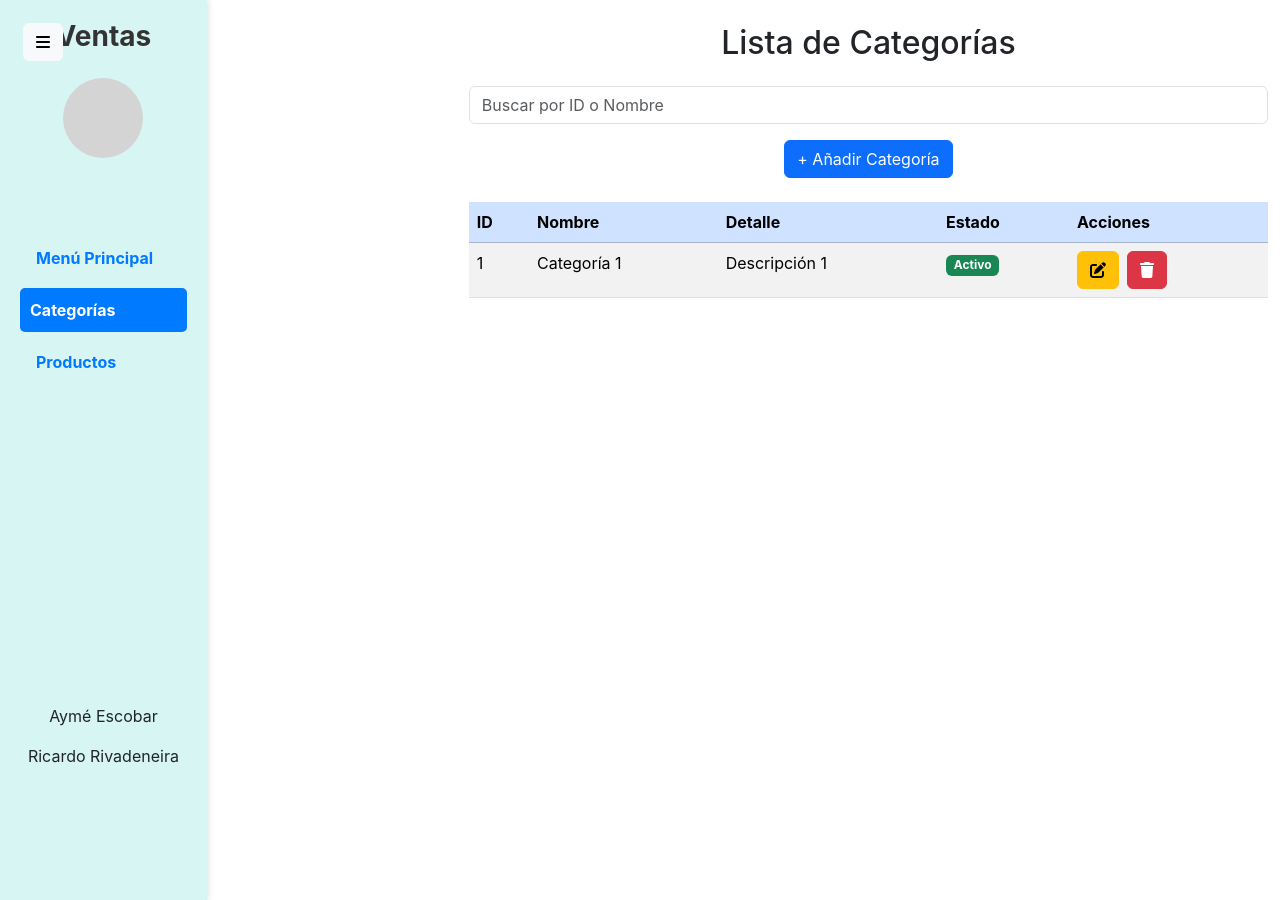
Test case: desactiva una categoría existente
Note: Seleccionar y hacer clic en el botón "Desactivar"
Click the button named "Desactivar Categoría" at {"x": 1147, "y": 270}, box [1127,251,1167,289]
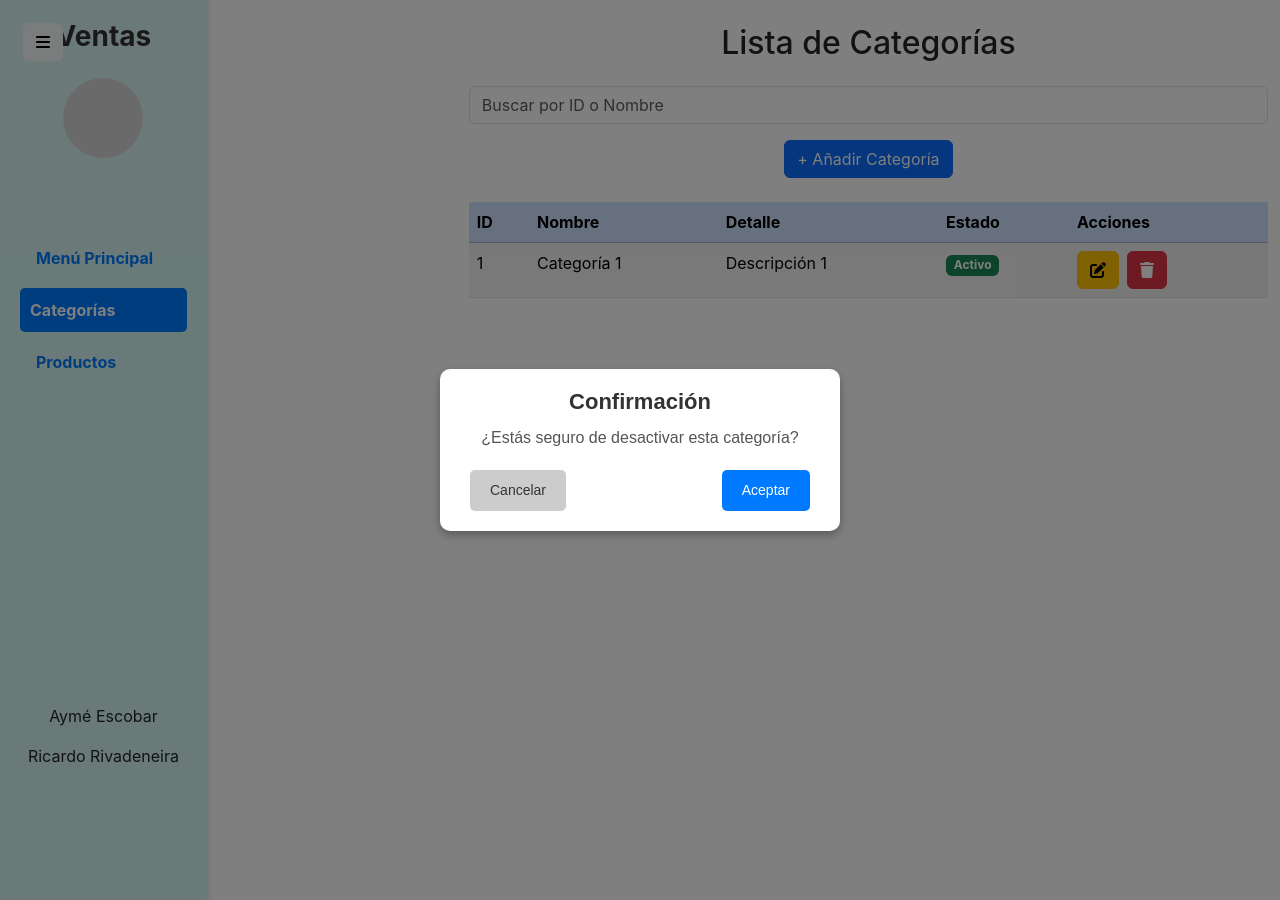
Note: Simular clic en la confirmación del modal
Click the button "Aceptar" at {"x": 766, "y": 490}, box [722,470,810,511]
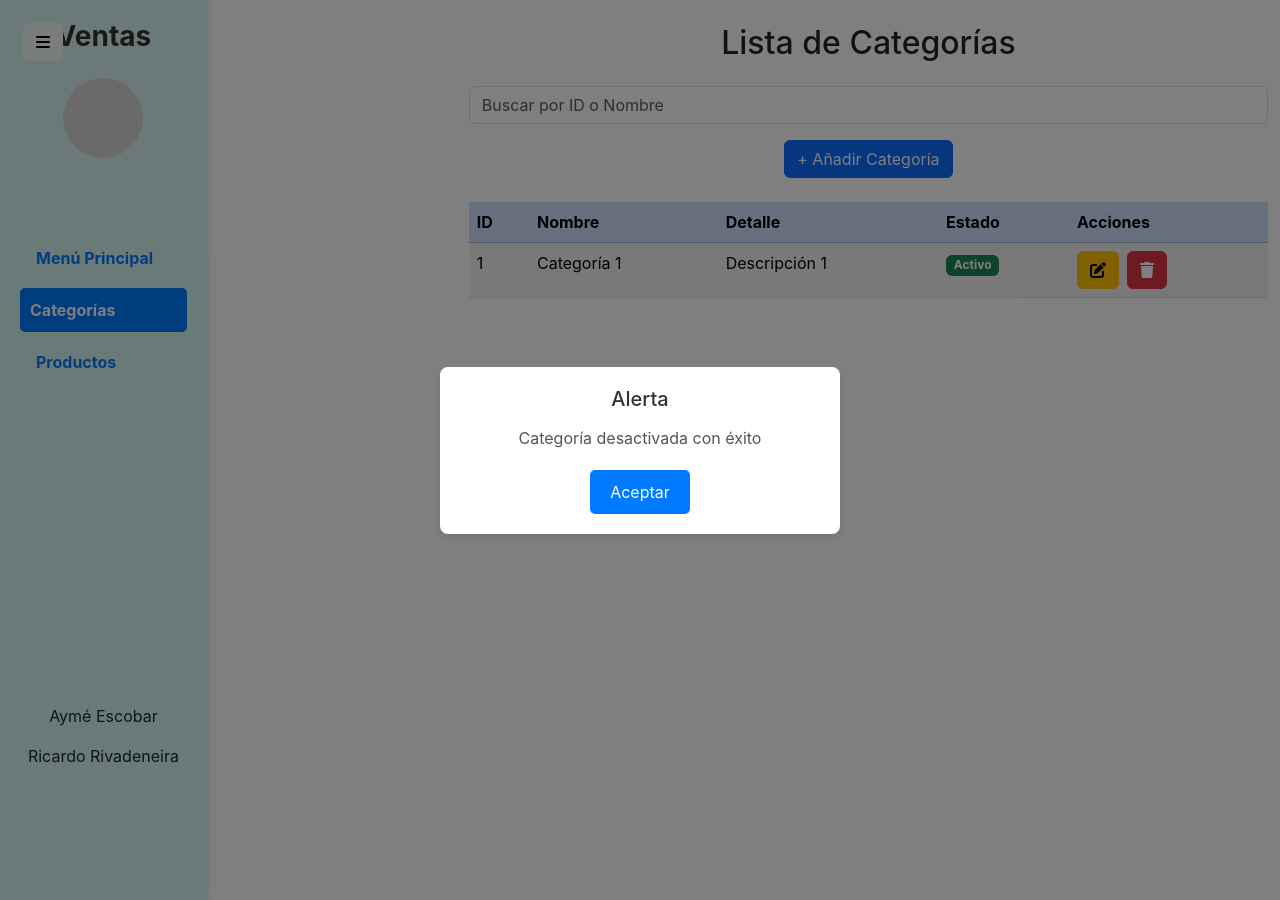
Now the text "Categoría desactivada con éxito" is shown, box [518,428,762,448]
